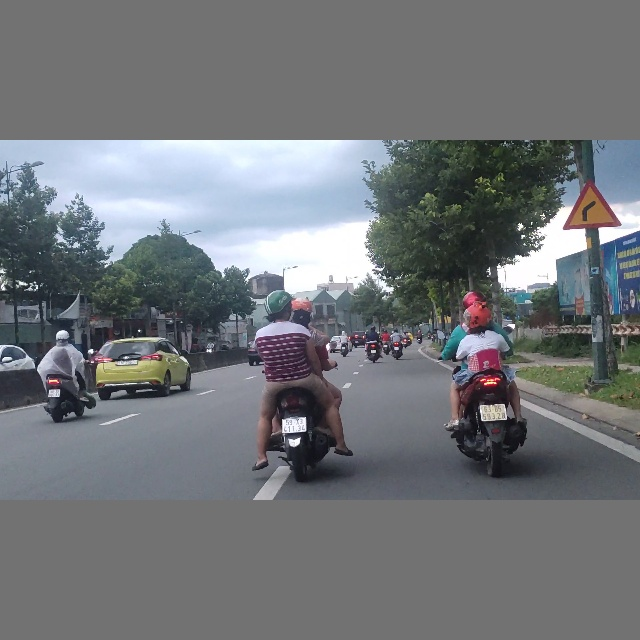W.201b: (560, 179, 620, 230)
